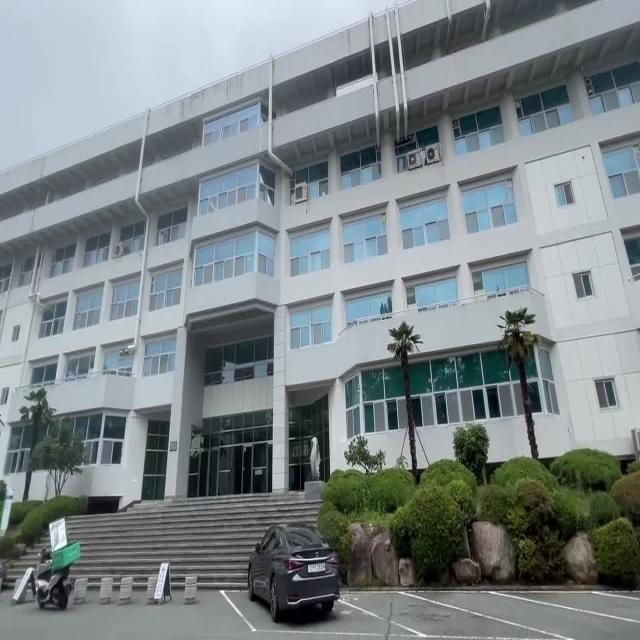building: (14, 25, 627, 463)
